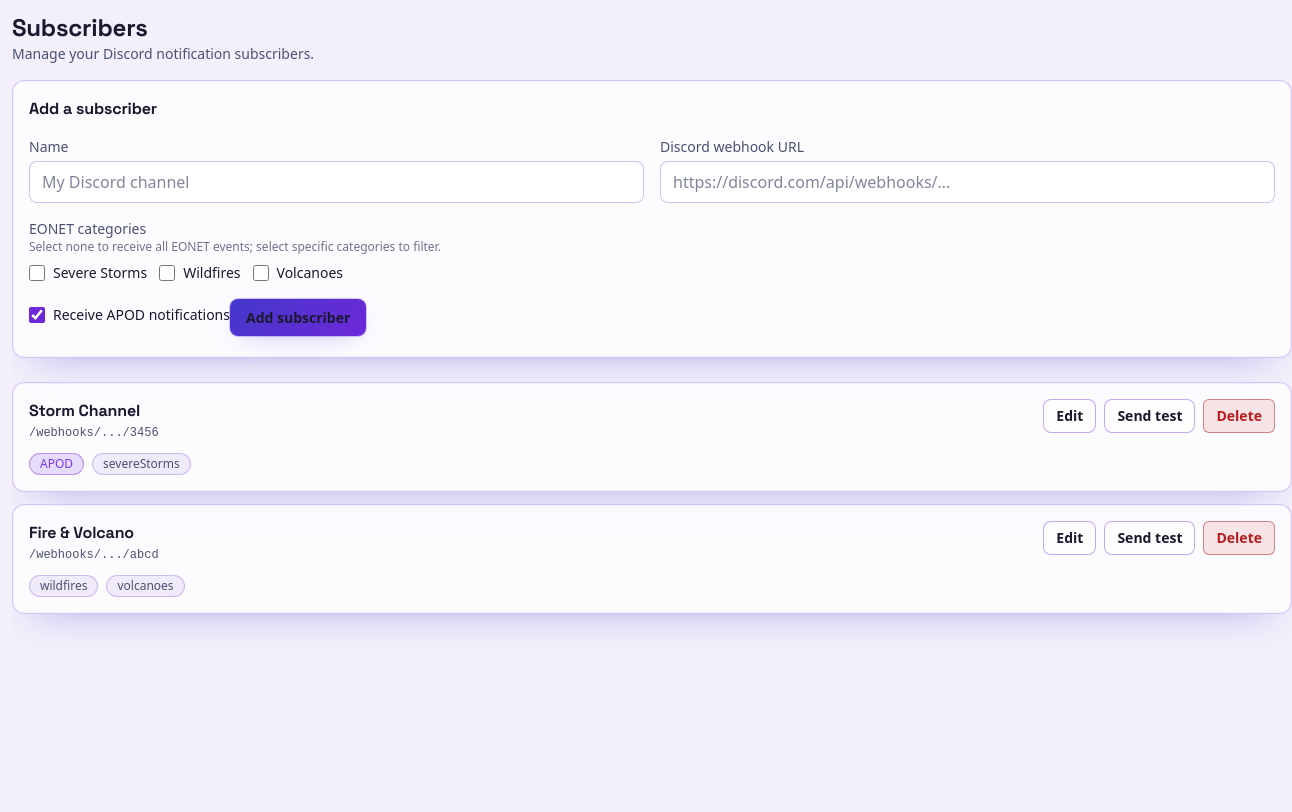
Subscribers — VAL-FE-SUB-008 empty-field validation › rejects empty name AND empty webhook URL with field errors; no POST
expect the list with test id "subscribers-list" is shown: met, box left=12, top=382, right=1291, bottom=614
// Submit without filling anything.
Step 1. Click the button with test id "add-subscriber-submit" → (298, 318), box left=230, top=299, right=366, bottom=336
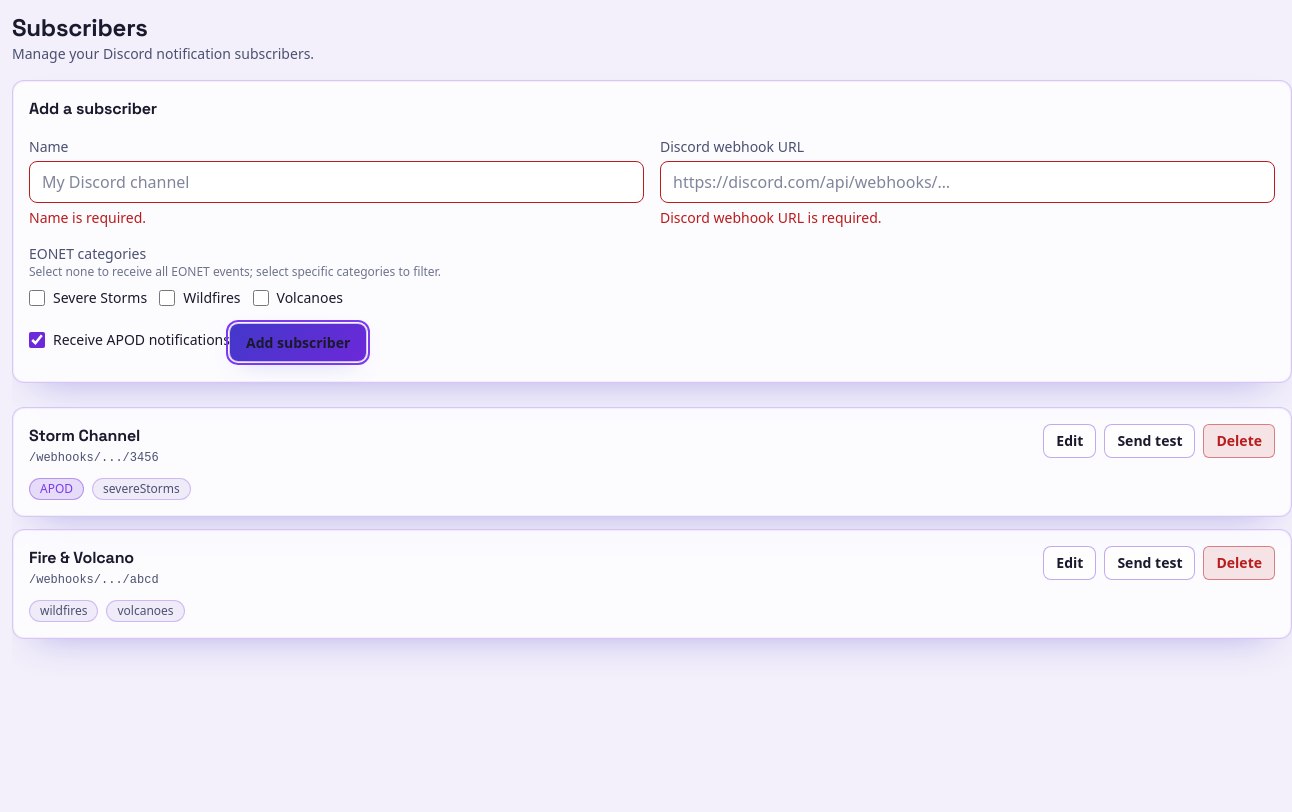
expect the message "Name is required." is shown: met, box left=29, top=208, right=146, bottom=227
expect the message "Discord webhook URL is required." is shown: met, box left=660, top=208, right=882, bottom=227
